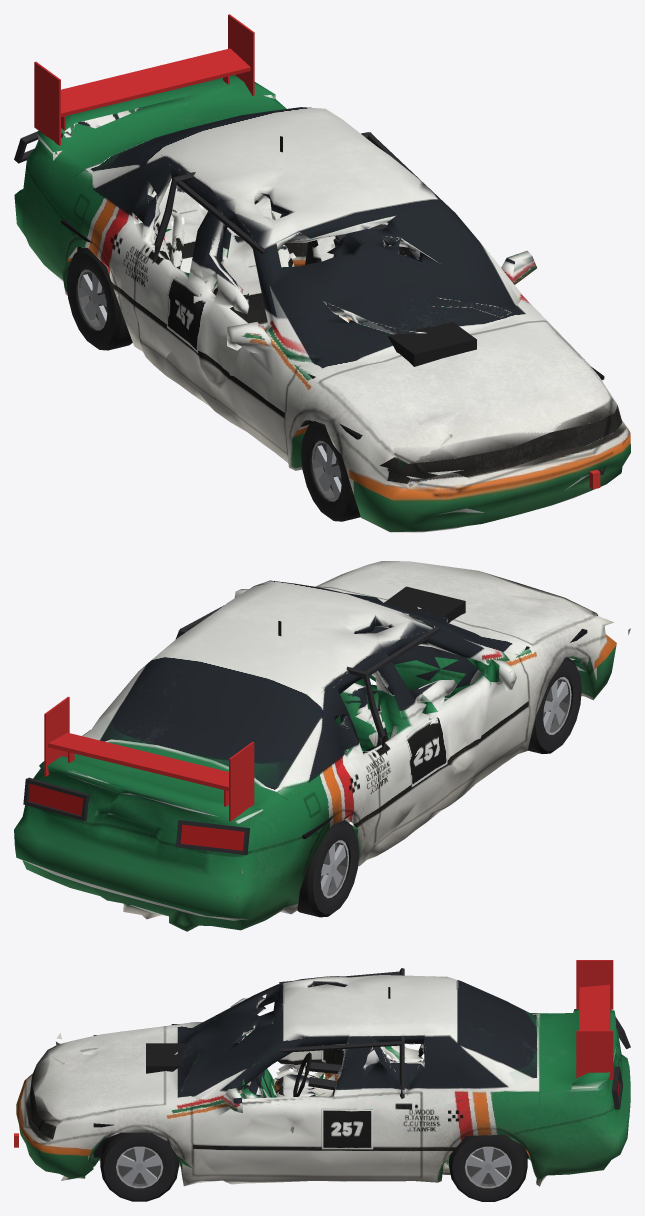
3 views of the same model, one above another, from view 1: azimuth 30°, elevation 25°; view 2: azimuth 150°, elevation 25°; view 3: azimuth 270°, elevation 25° (orthographic). The views are drawn at different scales.
Visible parts, largest first — view 1: body, wheel_rr, wheel_fr; view 2: body, wheel_rr, wheel_fr; view 3: body, wheel_fl, wheel_rl.
Boxes of the visible parts, box(x1,y1,x2,y2) form: body: box(14, 14, 630, 532); wheel_rr: box(66, 247, 132, 350); wheel_fr: box(301, 421, 360, 521); body: box(14, 561, 630, 931); wheel_rr: box(297, 820, 359, 917); wheel_fr: box(527, 657, 581, 753); body: box(14, 960, 630, 1186); wheel_fl: box(100, 1132, 178, 1201); wheel_rl: box(449, 1134, 527, 1201).
Size of the model in its own units: 2.02 by 1.47 by 4.81.
Materials: 1 (1 with a texture image).
